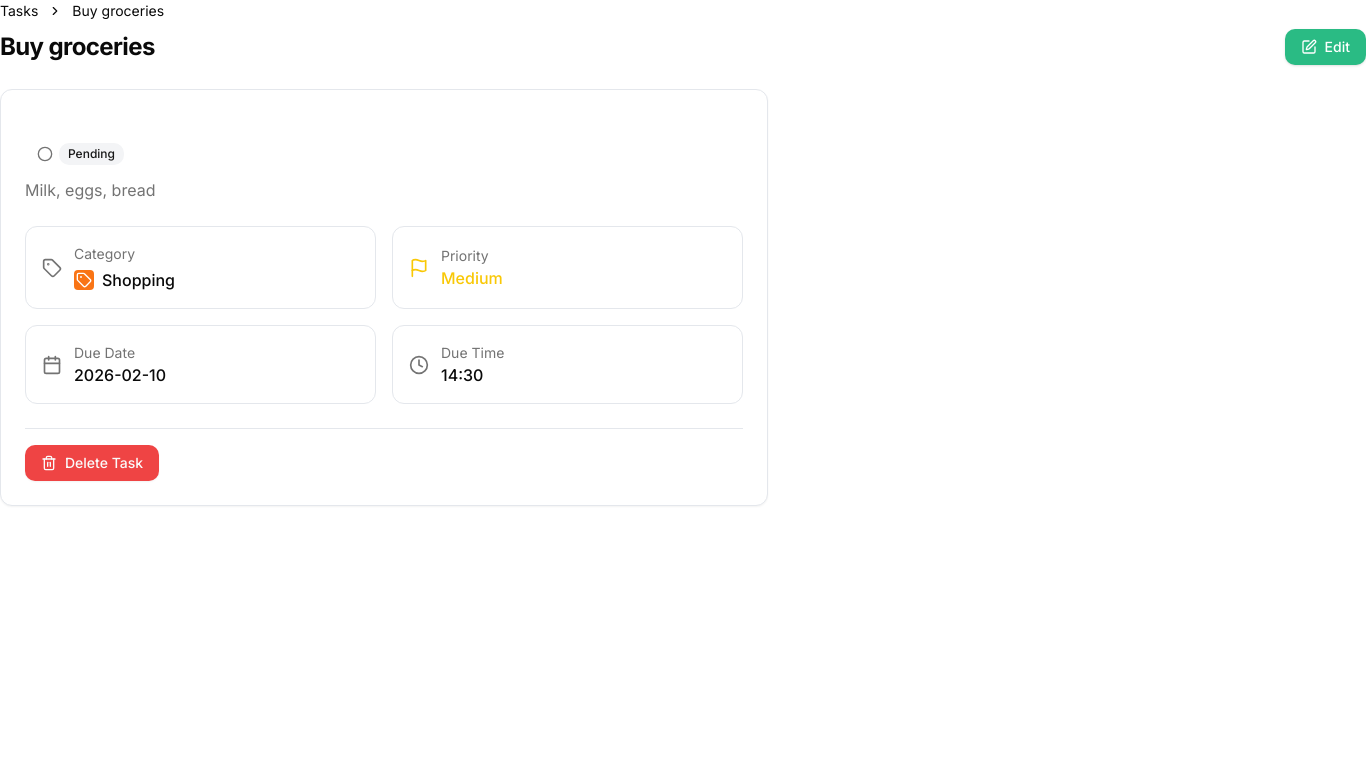
Test: TaskDetailContent › shows error toast on delete failure
The width and height of the screenshot is (1366, 768).
Click the button "Delete Task" at (92, 463), box [25,445,159,481]
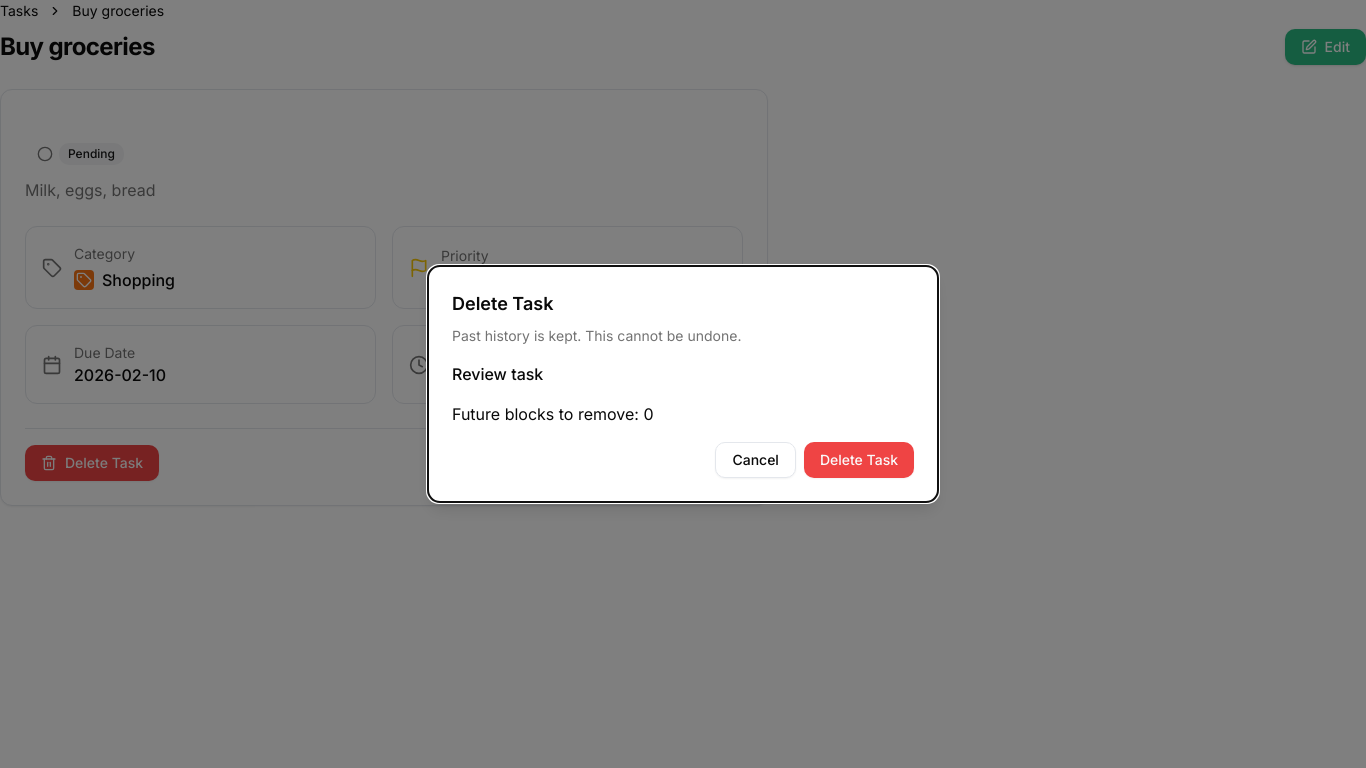
Check: the text "Past history is kept. This cannot be undone." is shown, box [452,327,741,344]
Click the button "Delete Task" at (859, 460), box [804,442,914,478]
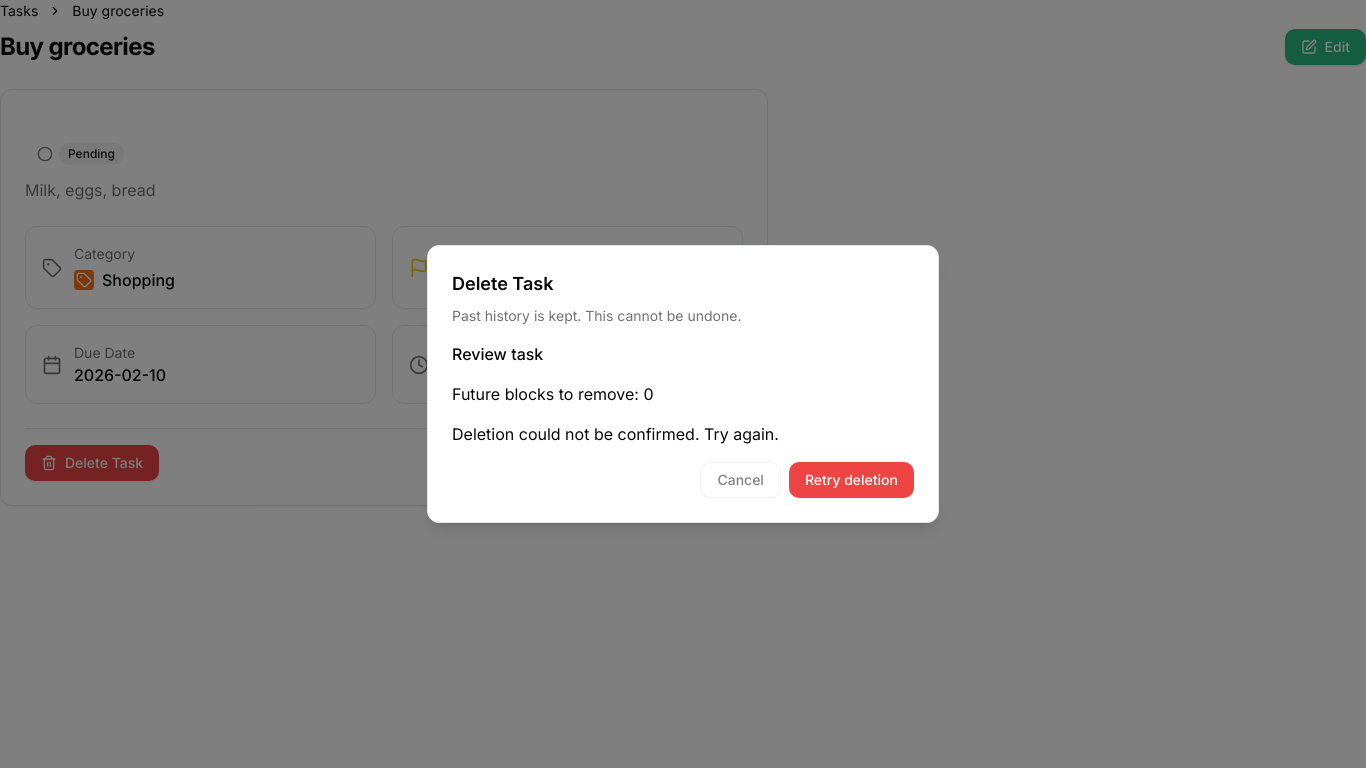
Check: the message shows "Deletion could not be confirmed", box [452,424,779,444]
